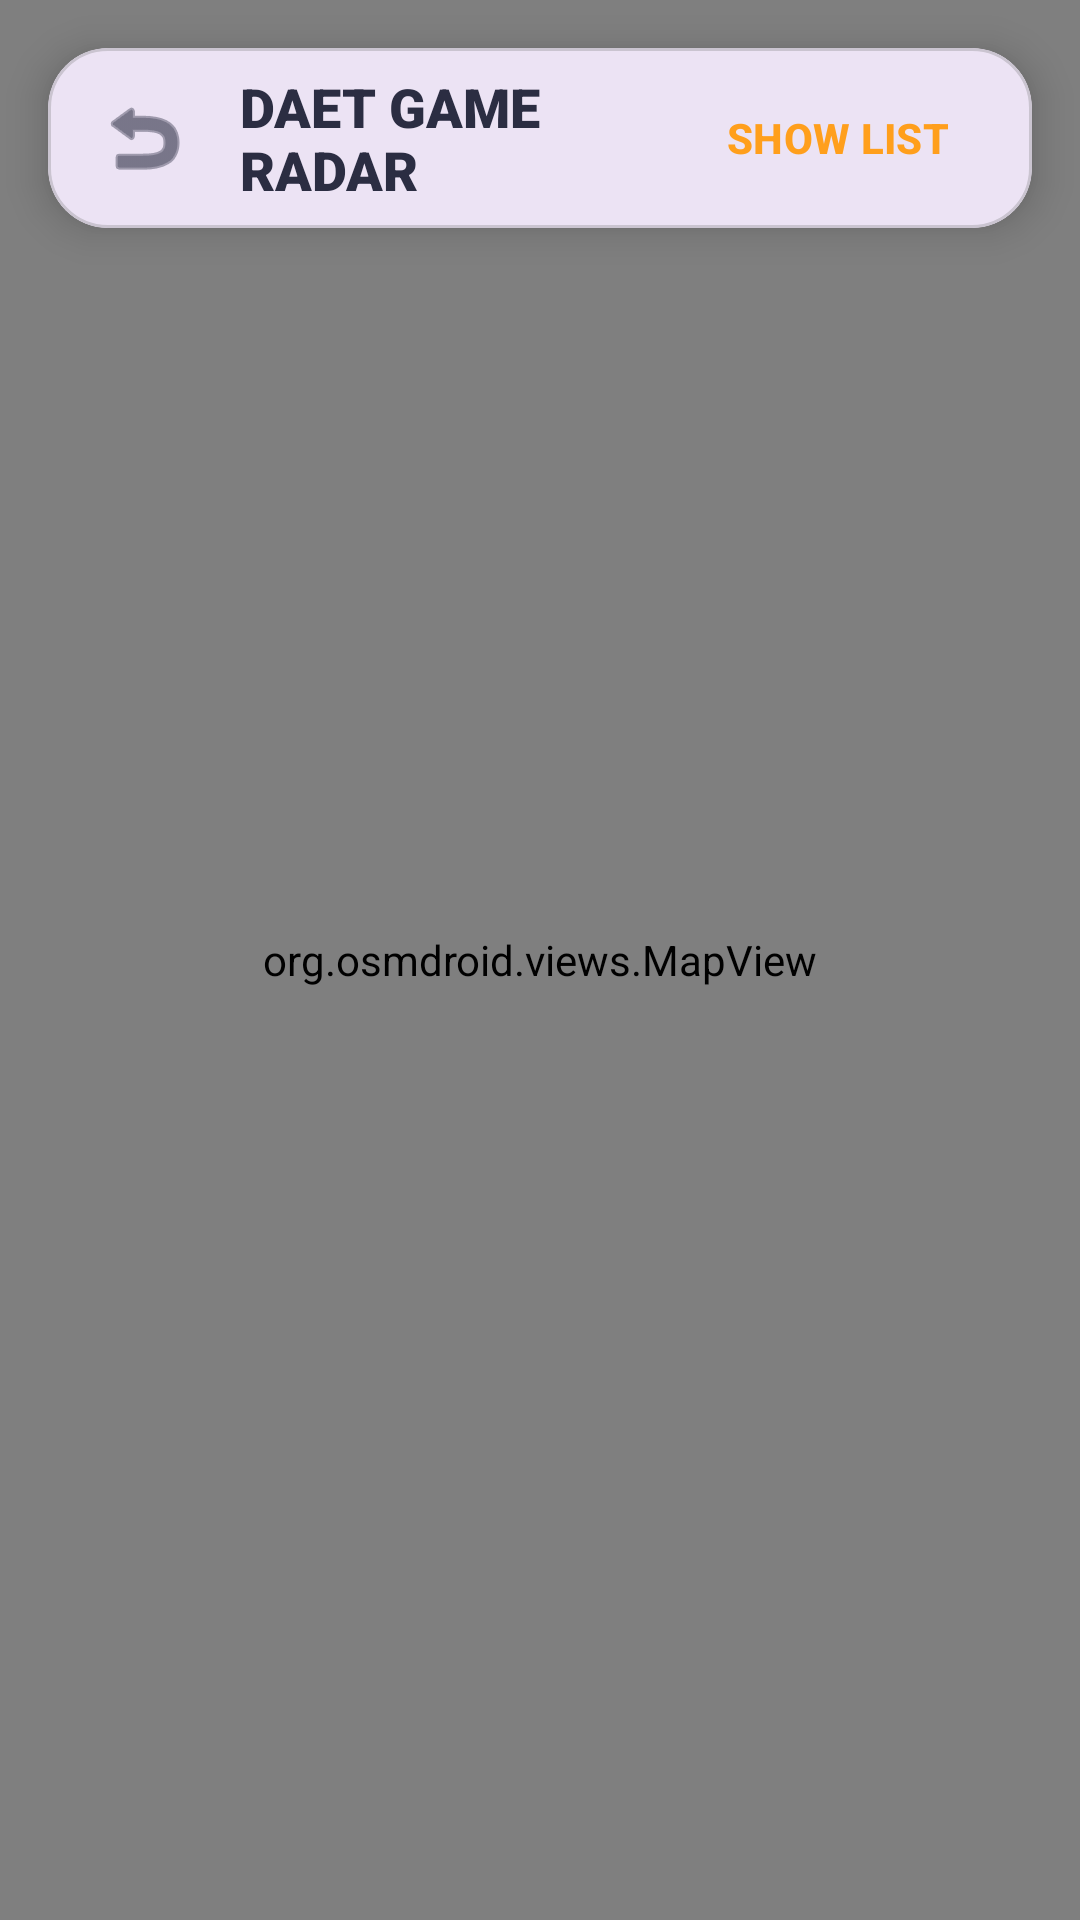

Point at icon controls on the screen. Image size 1080x1920, points as (x=x, y=y).
revert: (x=145, y=138)
